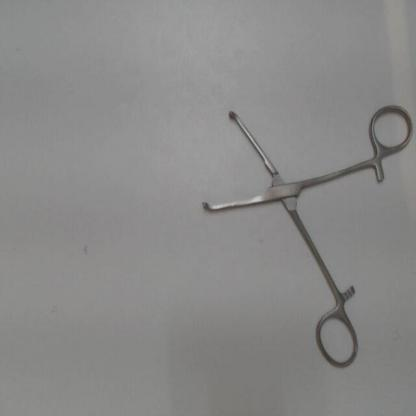Allis Tissue Forceps: (193, 94, 415, 377)
